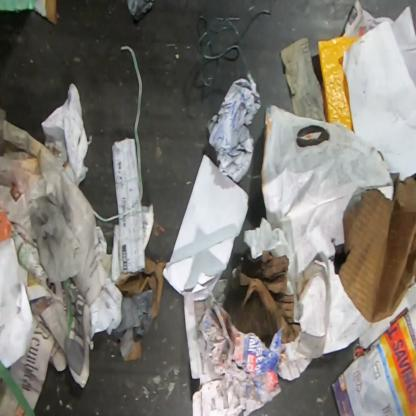cardboard: (337, 174, 416, 323), (224, 248, 301, 351), (0, 0, 56, 25)
